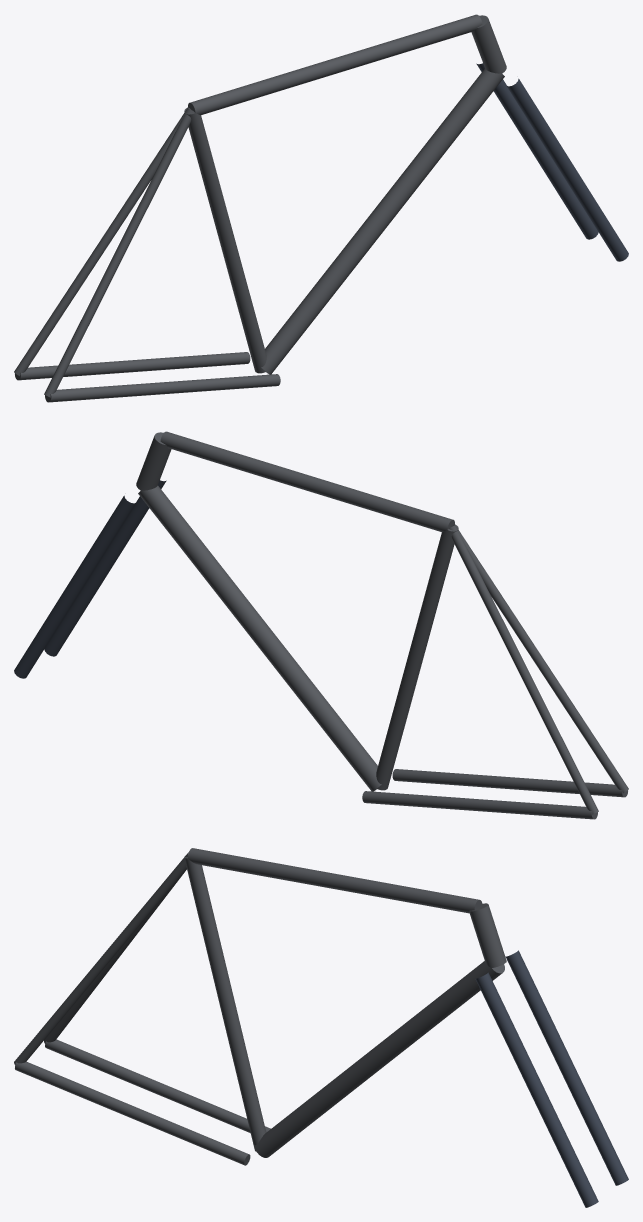
The model's file is wabi-prism-47.glb.
3 renders of one model, top to bottom at view 1: azimuth 30°, elevation 25°; view 2: azimuth 150°, elevation 25°; view 3: azimuth 330°, elevation 25°, orthographic.
Visible parts, largest first — view 1: paint_down, paint_top, paint_seat, paint_seatstay_0.045, fork_0.045, paint_chainstay_0.045, paint_chainstay_-0.045, paint_seatstay_-0.045, fork_-0.045, paint_head; view 2: paint_down, paint_top, paint_seat, paint_seatstay_-0.045, fork_-0.045, paint_chainstay_-0.045, paint_chainstay_0.045, paint_seatstay_0.045, fork_0.045, paint_head; view 3: paint_down, paint_top, paint_seat, fork_-0.045, fork_0.045, paint_chainstay_0.045, paint_chainstay_-0.045, paint_seatstay_0.045, paint_head, paint_seatstay_-0.045.
Boxes of the visible parts, x1,y1,x2,y2 form: paint_down: [261, 68, 504, 374]; paint_top: [188, 14, 482, 115]; paint_seat: [184, 107, 266, 373]; paint_seatstay_0.045: [44, 108, 193, 397]; fork_0.045: [507, 78, 628, 261]; paint_chainstay_0.045: [45, 374, 280, 402]; paint_chainstay_-0.045: [15, 352, 250, 380]; paint_seatstay_-0.045: [14, 107, 190, 376]; fork_-0.045: [476, 63, 598, 239]; paint_head: [471, 15, 506, 73]; paint_down: [138, 485, 381, 791]; paint_top: [160, 431, 454, 532]; paint_seat: [376, 524, 458, 790]; paint_seatstay_-0.045: [449, 525, 598, 814]; fork_-0.045: [14, 495, 135, 678]; paint_chainstay_-0.045: [362, 791, 597, 819]; paint_chainstay_0.045: [392, 769, 627, 797]; paint_seatstay_0.045: [452, 524, 628, 793]; fork_0.045: [44, 480, 166, 656]; paint_head: [136, 432, 171, 490]; paint_down: [254, 961, 504, 1157]; paint_top: [188, 848, 482, 913]; paint_seat: [184, 856, 266, 1151]; fork_-0.045: [505, 950, 628, 1185]; fork_0.045: [475, 972, 598, 1207]; paint_chainstay_0.045: [15, 1061, 250, 1165]; paint_chainstay_-0.045: [45, 1039, 270, 1132]; paint_seatstay_0.045: [14, 852, 188, 1064]; paint_head: [469, 903, 506, 967]; paint_seatstay_-0.045: [44, 869, 186, 1043].
Size of the model in its own units: 1 by 0.5065 by 0.112.
